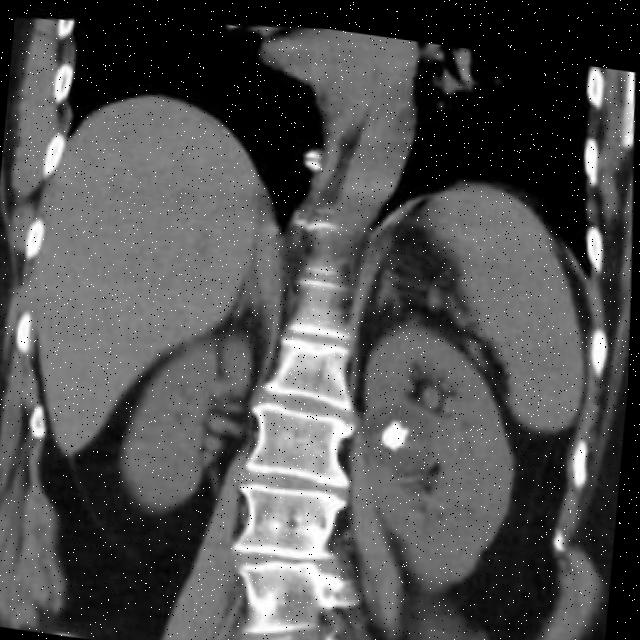Tas_Var: (380, 405, 416, 452)
